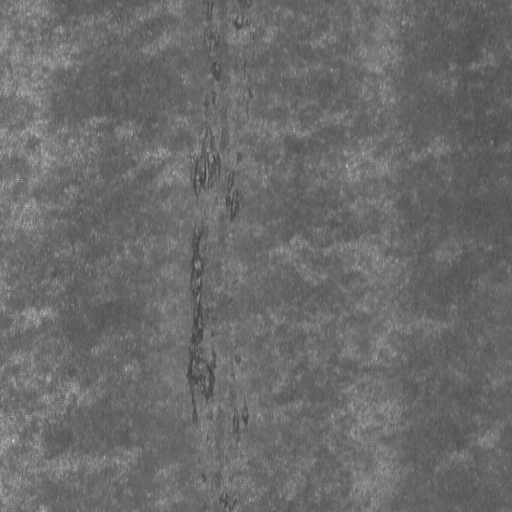xingxingliewen: (185, 1, 249, 445)
